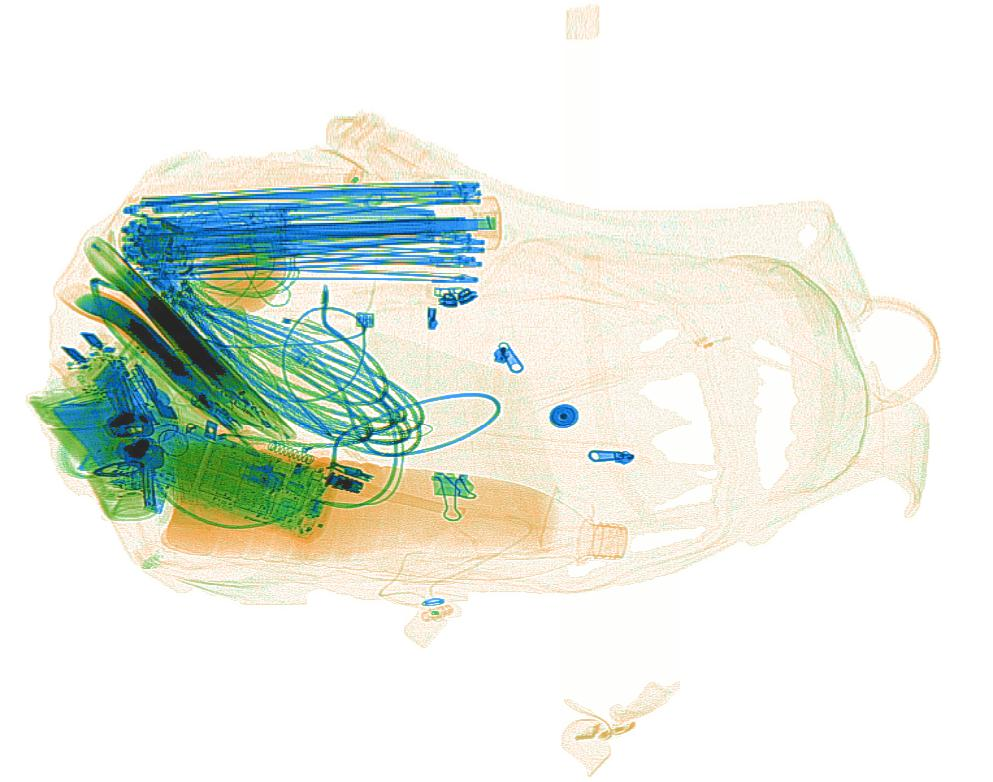battery: (53, 394, 144, 468)
